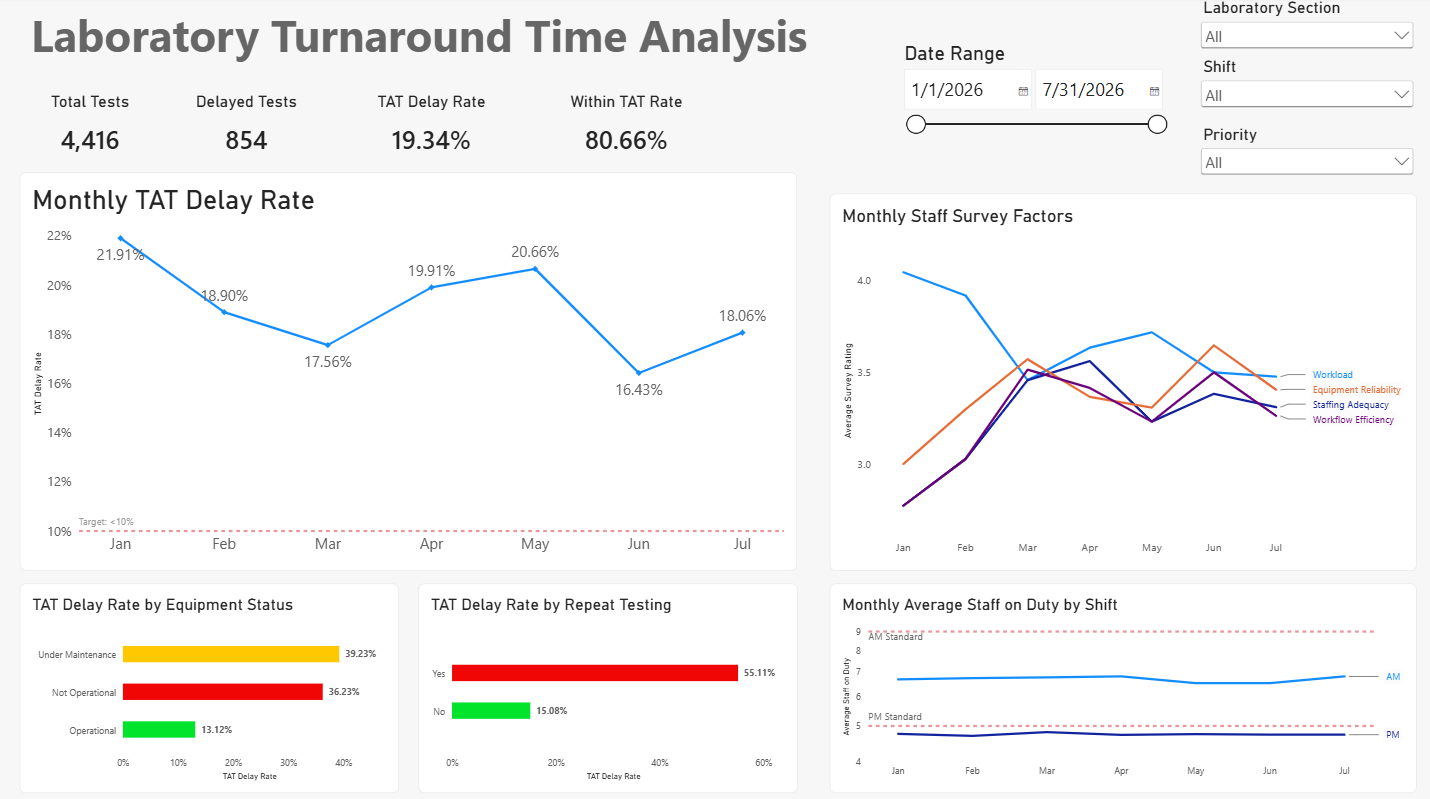

The dashboard page shown, as its layout file describes it:
{"tool":"powerbi","page":{"name":"Page 1","canvas":[1920,1080],"ordinal":0},"visuals":[{"type":"textbox","box":[46,12,1068,116],"z":0},{"type":"cardVisual","title":"Total Tests","fields":{"Data":["Lab Data.Total Tests Display"]},"box":[32,128,188,92],"z":1000},{"type":"cardVisual","title":"Delayed Tests","fields":{"Data":["Lab Data.Delayed Tests"]},"box":[240,128,188,92],"z":2000},{"type":"cardVisual","title":"TAT Delay Rate","fields":{"Data":["Lab Data.TAT Delay Rate"]},"box":[462.5,128.6,238.8,91.8],"z":3000},{"type":"cardVisual","title":"Within TAT Rate","fields":{"Data":["Lab Data.Within TAT Rate"]},"box":[748,128,188,92],"z":4000},{"type":"lineChart","title":"Monthly TAT Delay Rate","fields":{"Category":["Calendar.Month"],"Y":["Lab Data.TAT Delay Rate"]},"box":[32,236,1038,532],"z":5000},{"type":"lineChart","title":"Monthly Staff Survey Factors","fields":{"Category":["Calendar.Month"],"Y":["Staff Survey.Average Workload","Staff Survey.Average Staffing Adequacy","Staff Survey.Average Equipment Reliability","Staff Survey.Average Workflow Efficiency"]},"box":[1114,264,784,504],"z":6000},{"type":"clusteredBarChart","title":"TAT Delay Rate by Equipment Status","fields":{"Category":["Lab Data.Equipment Status"],"Y":["Lab Data.TAT Delay Rate"]},"box":[32,784,506,280],"z":7000},{"type":"clusteredBarChart","fields":{"Category":["Lab Data.Repeat Testing"],"Y":["Lab Data.TAT Delay Rate"]},"box":[564,784,506,280],"z":8000},{"type":"lineChart","title":"Monthly Average Staff on Duty by Shift","fields":{"Category":["Calendar.Month"],"Series":["Shift Reference.Shift"],"Y":["Lab Data.Average Staff on Duty"]},"box":[1114,784,784,280],"z":9000},{"type":"slicer","fields":{"Values":["Lab Data.Priority"]},"box":[1604,172,294,84],"z":10000},{"type":"slicer","fields":{"Values":["Shift Reference.Shift"]},"box":[1604,82,294,90],"z":11000},{"type":"slicer","fields":{"Values":["Lab Data.Laboratory Section"]},"box":[1604,4,294,78],"z":12000},{"type":"slicer","fields":{"Values":["Lab Data.Test Date"]},"box":[1206,60,362,226],"z":13000}]}

Visuals, with their boxes in screenshot pixels (x1, y1, x2, y2), scaled from the page's 1920x1080 canvas onto the 1430x799 screenshot:
textbox: locate(34, 9, 830, 95)
"Total Tests" cardVisual: locate(24, 95, 164, 163)
"Delayed Tests" cardVisual: locate(179, 95, 319, 163)
"TAT Delay Rate" cardVisual: locate(344, 95, 522, 163)
"Within TAT Rate" cardVisual: locate(557, 95, 697, 163)
"Monthly TAT Delay Rate" lineChart: locate(24, 175, 797, 568)
"Monthly Staff Survey Factors" lineChart: locate(830, 195, 1414, 568)
"TAT Delay Rate by Equipment Status" clusteredBarChart: locate(24, 580, 401, 787)
clusteredBarChart - Lab Data.Repeat Testing x Lab Data.TAT Delay Rate: locate(420, 580, 797, 787)
"Monthly Average Staff on Duty by Shift" lineChart: locate(830, 580, 1414, 787)
slicer - Lab Data.Priority: locate(1195, 127, 1414, 189)
slicer - Shift Reference.Shift: locate(1195, 61, 1414, 127)
slicer - Lab Data.Laboratory Section: locate(1195, 3, 1414, 61)
slicer - Lab Data.Test Date: locate(898, 44, 1168, 212)
